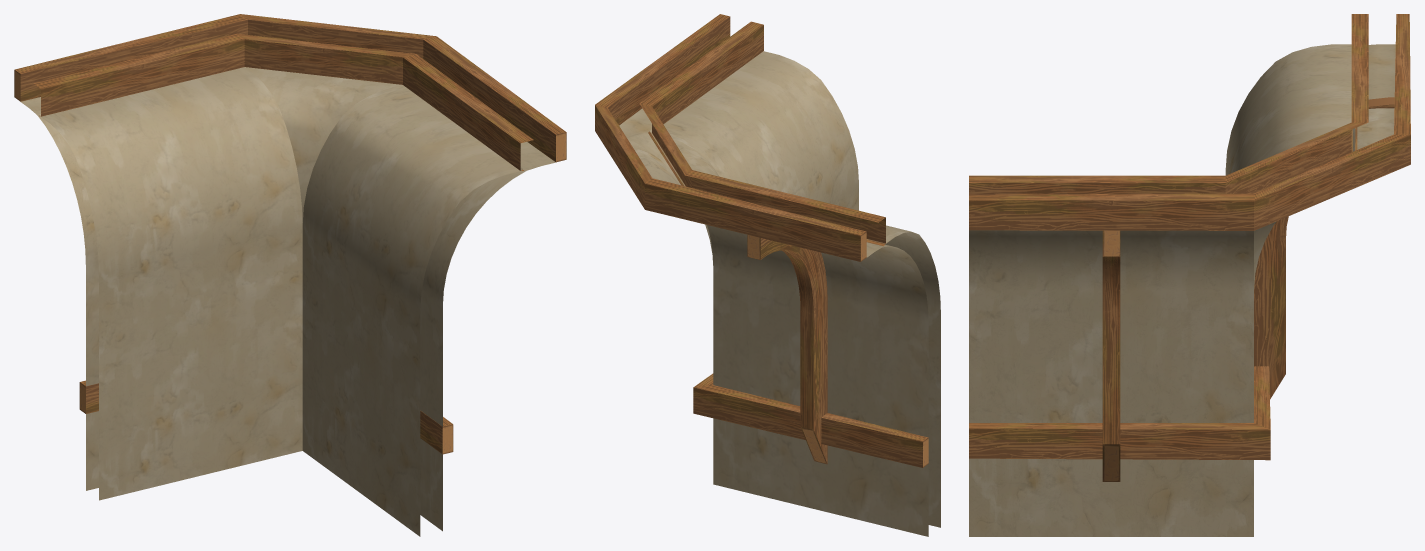
Rendered from Overhang_Plaster_Corner.gltf.
3 views of the same model, side by side, from view 1: azimuth 30°, elevation 25°; view 2: azimuth 150°, elevation 25°; view 3: azimuth 270°, elevation 25° (orthographic). The views are drawn at different scales.
Parts seen in each view (by area): view 1: Overhang_Plaster_Corner; view 2: Overhang_Plaster_Corner; view 3: Overhang_Plaster_Corner.
Boxes of the visible parts, <box> form: Overhang_Plaster_Corner: <box>14,14,566,536</box>; Overhang_Plaster_Corner: <box>595,14,940,536</box>; Overhang_Plaster_Corner: <box>969,14,1410,536</box>.
Size of the model in its own units: 3.1 by 3.12 by 3.1.
Materials: 2 (2 with a texture image).
